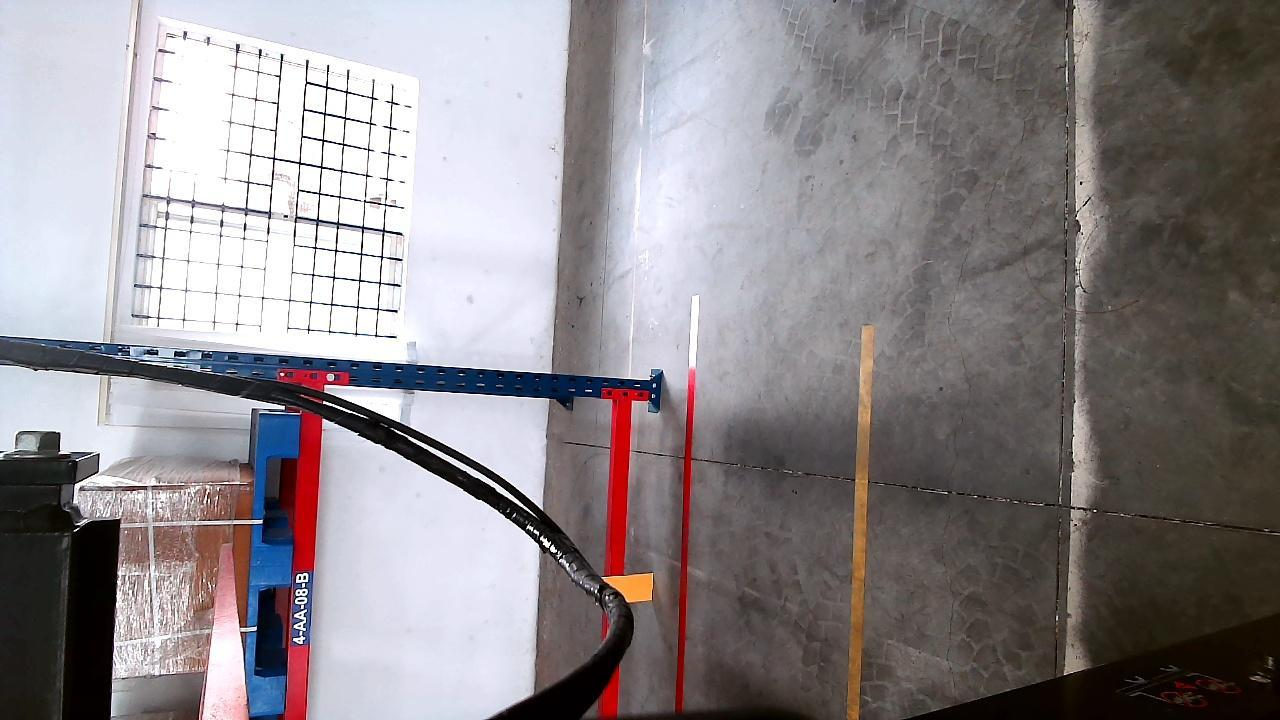red_line: (676, 293, 698, 713)
yellow_line: (845, 317, 874, 720)
